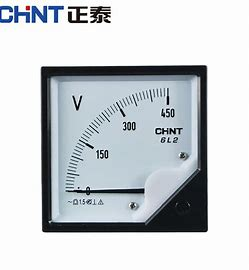pointer: (47, 74, 199, 222)
